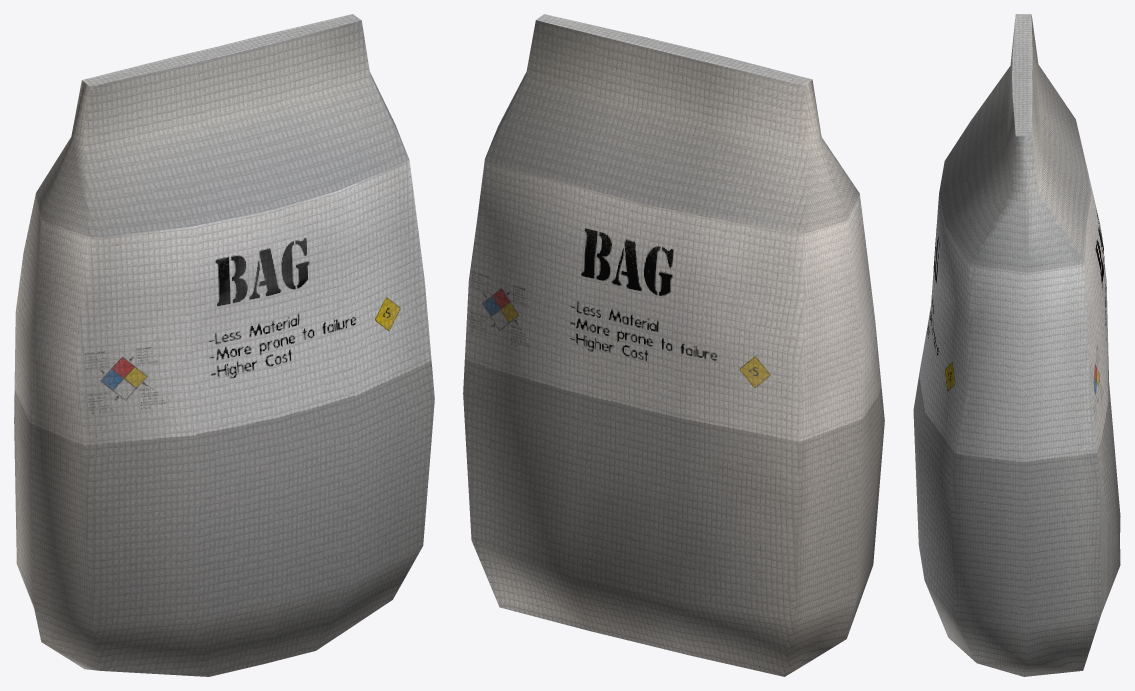
Rendered from bag.fbx.
3 renders of one model, left to right at view 1: azimuth 30°, elevation 25°; view 2: azimuth 150°, elevation 25°; view 3: azimuth 270°, elevation 25°, orthographic. The views are drawn at different scales.
Parts seen in each view (by area): view 1: Cube.002; view 2: Cube.002; view 3: Cube.002.
Boxes of the visible parts, x1=… form: Cube.002: x1=14, y1=14, x2=434, y2=676; Cube.002: x1=463, y1=14, x2=884, y2=676; Cube.002: x1=913, y1=14, x2=1120, y2=676.
Bounding box in the file's own units: 13.41 × 20.02 × 6.82.
Materials: 1 (1 with a texture image).
